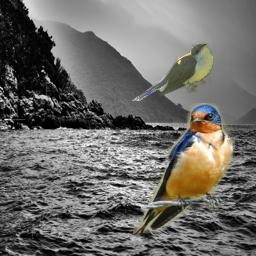Cuckoo: (131, 43, 213, 101)
Swallow: (133, 103, 235, 236)
